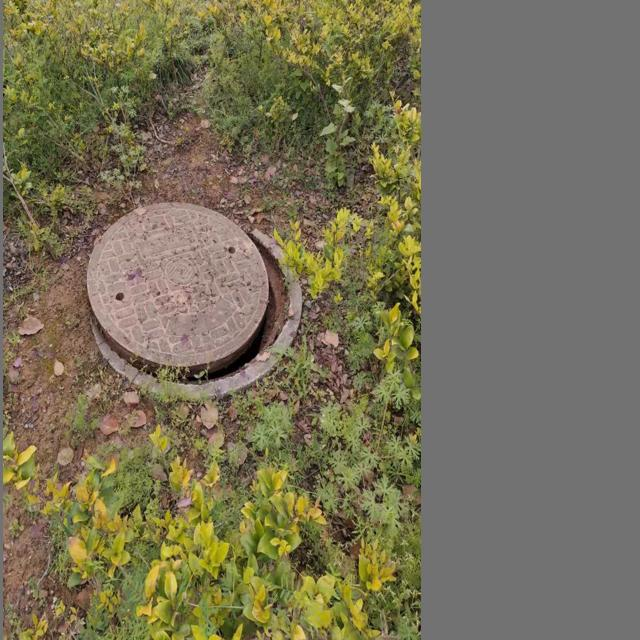uncovered: (87, 202, 303, 398)
